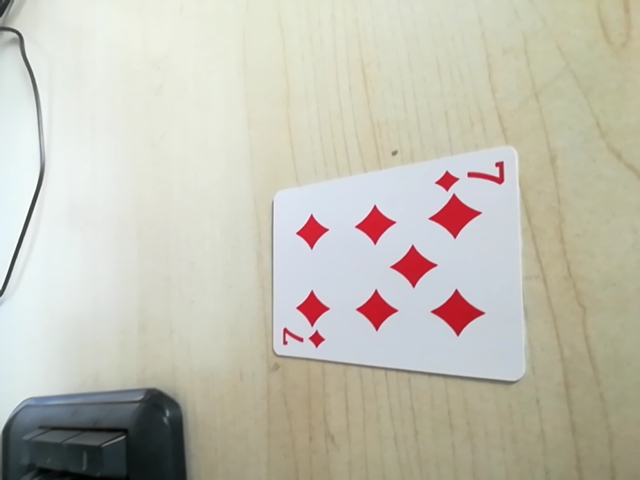fk 7: (431, 157, 509, 194), (273, 326, 331, 355)
